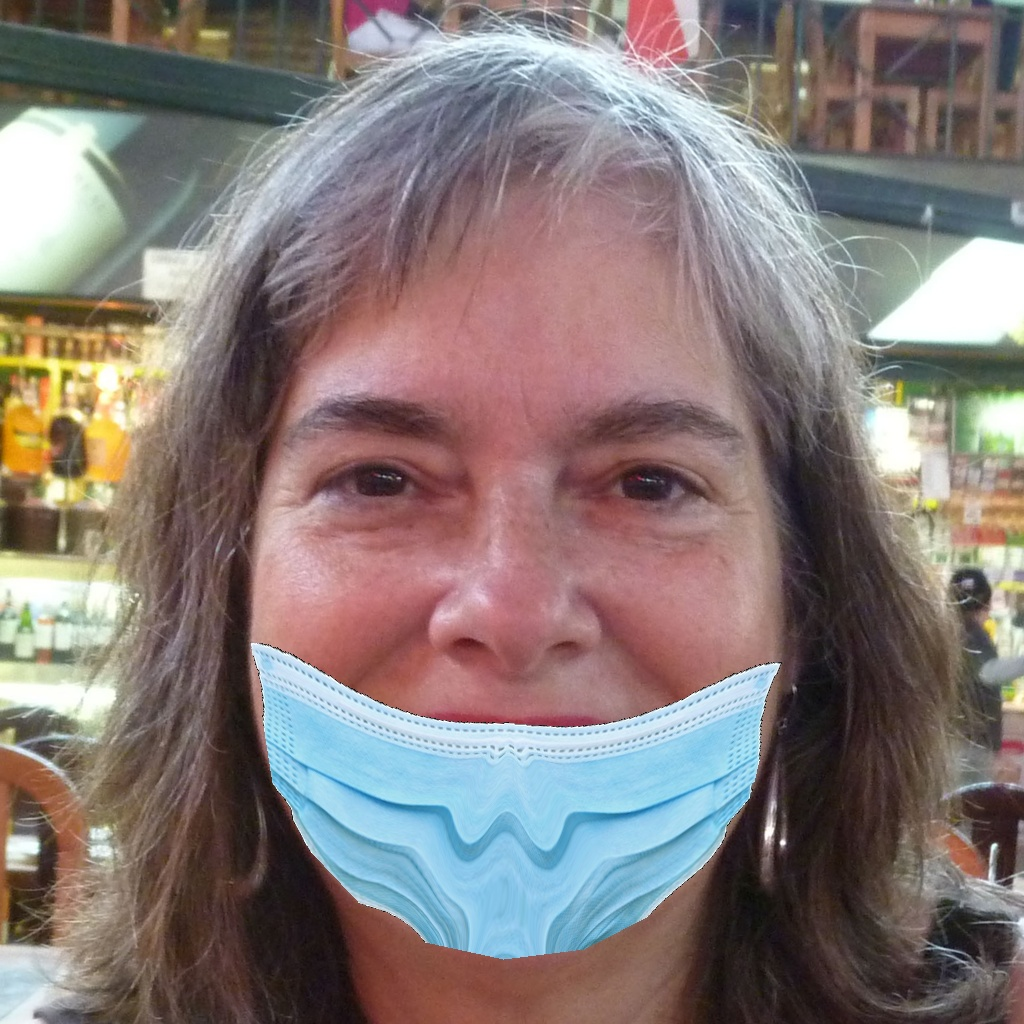mascarilla_mal_puesta: (249, 373, 817, 970)
